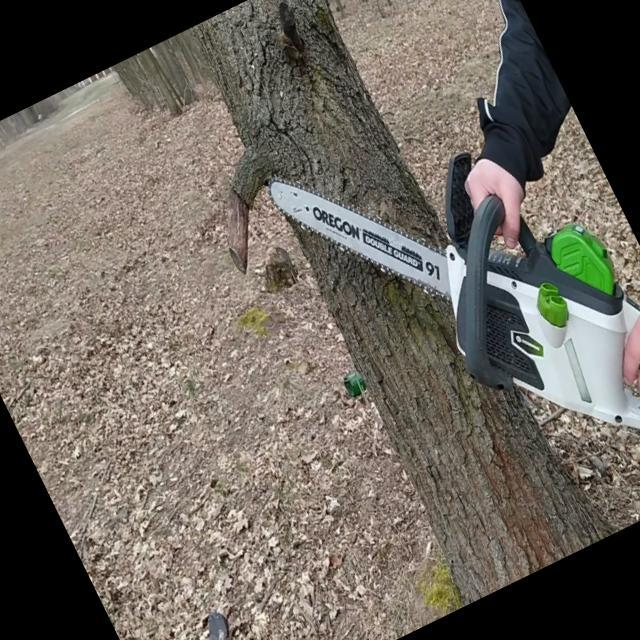Chainsaw: (252, 39, 640, 607)
